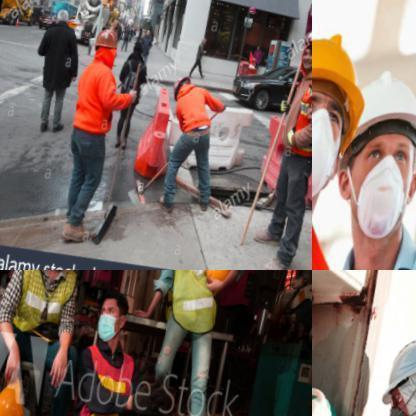vest: (0, 270, 85, 350), (153, 270, 236, 344), (65, 343, 136, 415), (277, 75, 311, 166)
